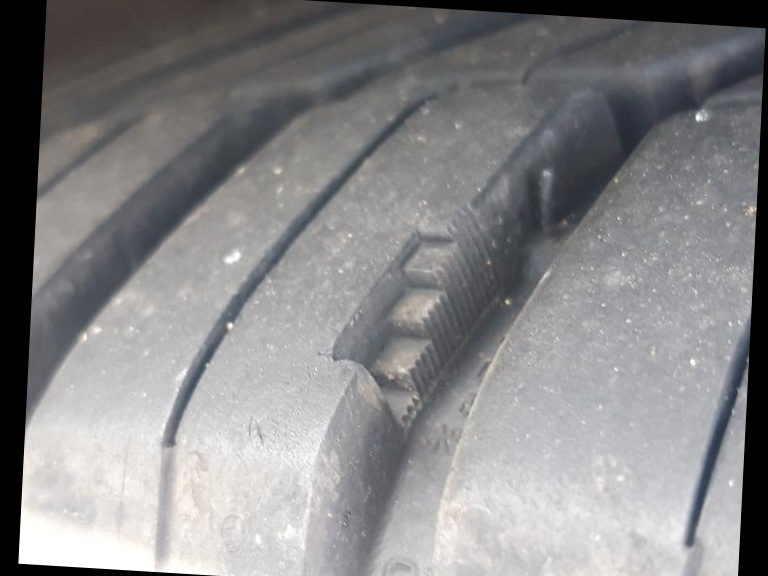temoin:90: (307, 183, 514, 459)
